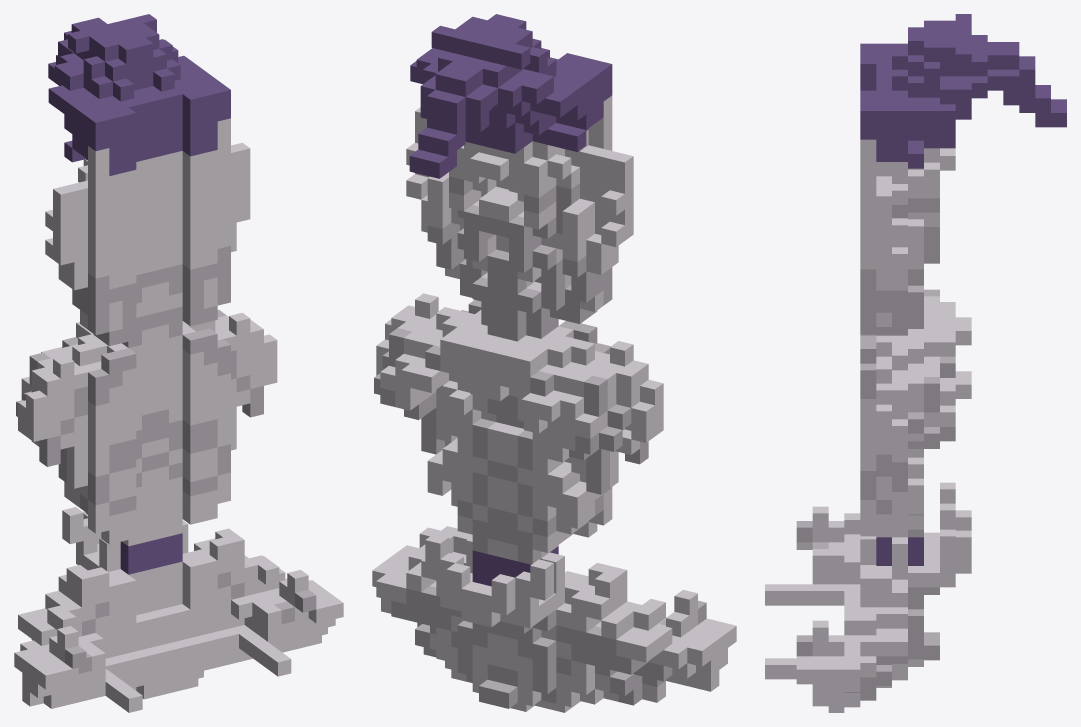
File: enka_muru.glb
The picture shows the model from 3 angles, left to right: view 1: azimuth 30°, elevation 25°; view 2: azimuth 150°, elevation 25°; view 3: azimuth 270°, elevation 25°; orthographic projection. The views are drawn at different scales.
Visible parts, largest first — view 1: enka_muru; view 2: enka_muru; view 3: enka_muru.
Boxes of the visible parts, x1,y1,x2,y2 form: enka_muru: [14, 14, 343, 712]; enka_muru: [372, 14, 736, 712]; enka_muru: [765, 14, 1066, 712].
Bounding box in the file's own units: 0.946 × 1.89 × 0.817.
Materials: 1 (1 with a texture image).
